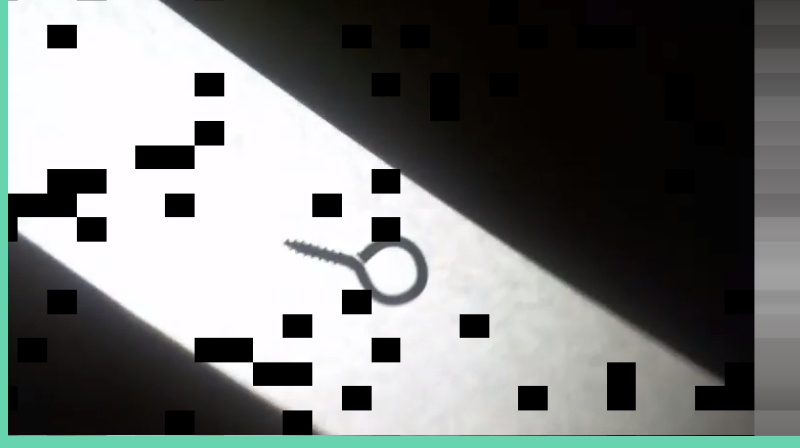O001: (277, 229, 429, 307)
